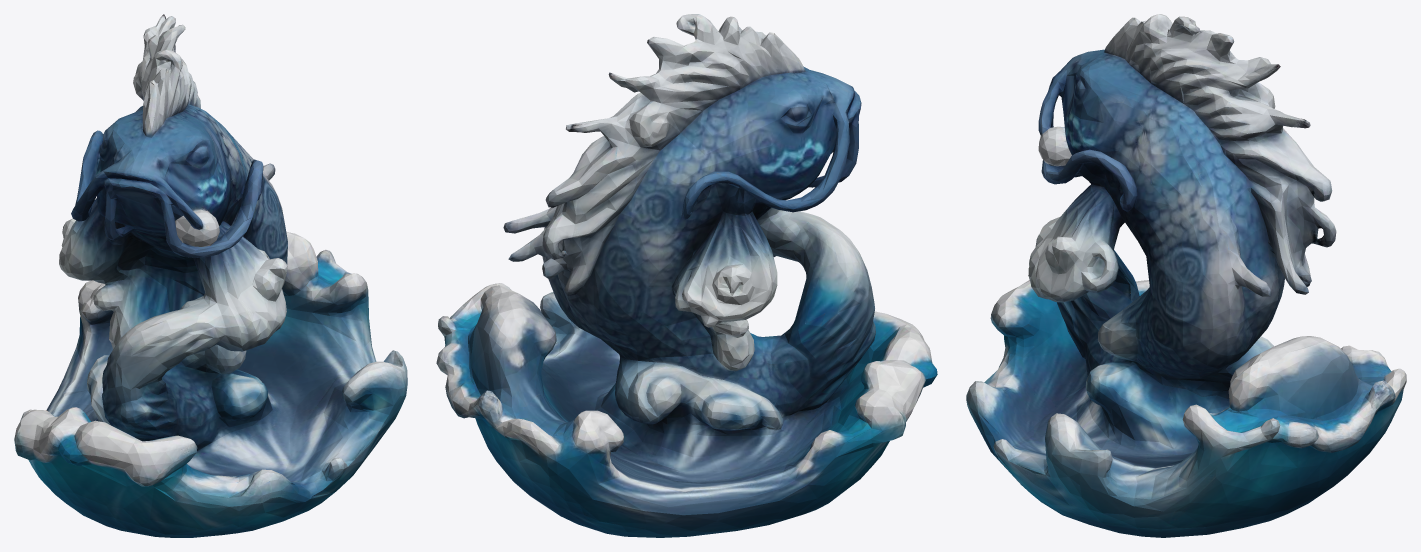
File: glimmerkoi__torrentSerpent.glb
3 renders of one model, left to right at view 1: azimuth 30°, elevation 25°; view 2: azimuth 150°, elevation 25°; view 3: azimuth 270°, elevation 25°, orthographic. The views are drawn at different scales.
Parts seen in each view (by area): view 1: world; view 2: world; view 3: world.
Boxes of the visible parts, box(x1,y1,x2,y2) form: world: box(14, 14, 407, 537); world: box(436, 14, 937, 537); world: box(966, 14, 1406, 537).
Size of the model in its own units: 0.6964 by 0.7613 by 0.6762.
1 material, 1 textured.
